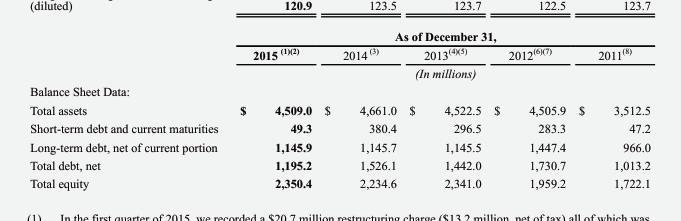table: (29, 29, 649, 190)
table column: (29, 29, 228, 190), (228, 29, 317, 190), (317, 29, 402, 190), (486, 29, 571, 190), (402, 29, 486, 190), (571, 29, 649, 190)
table column header: (29, 29, 649, 81)
table projected row header: (29, 81, 649, 100)
table row: (29, 44, 649, 63), (29, 81, 649, 100), (29, 118, 649, 137), (29, 155, 649, 174), (29, 63, 649, 81), (29, 100, 649, 118), (29, 137, 649, 155), (29, 174, 649, 190), (29, 29, 649, 44)
table spanning cell: (228, 63, 649, 81), (228, 29, 649, 44)
